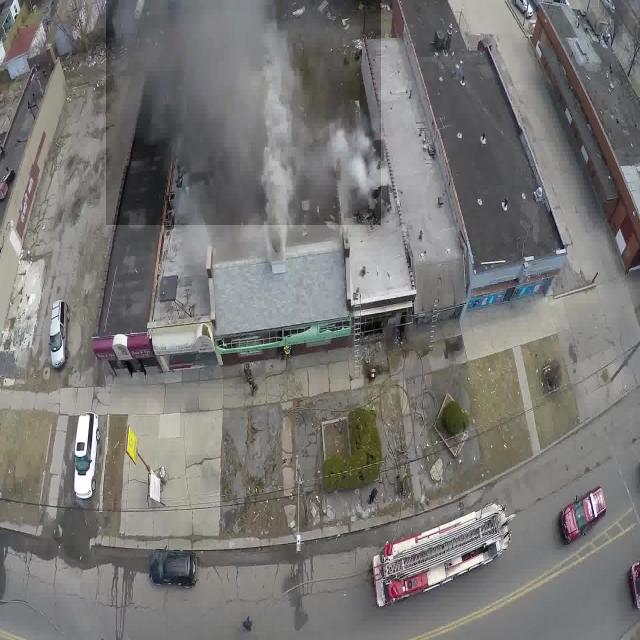Smoke: (106, 0, 381, 225)
